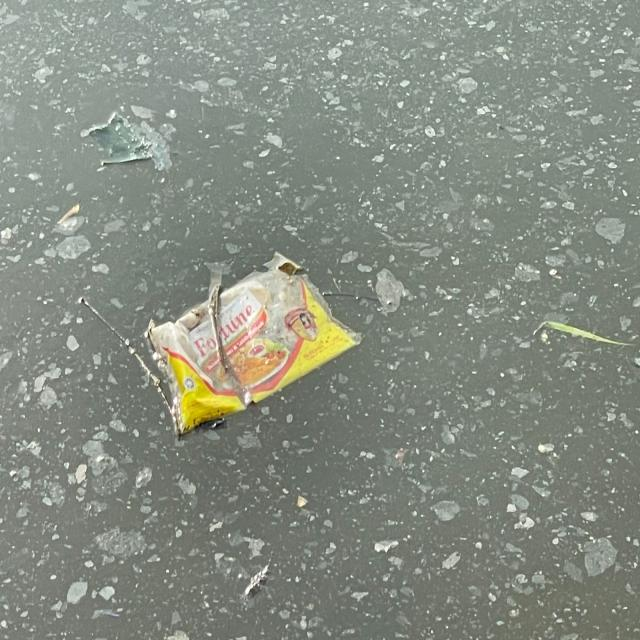Bungkus Makanan: (142, 248, 365, 440)
